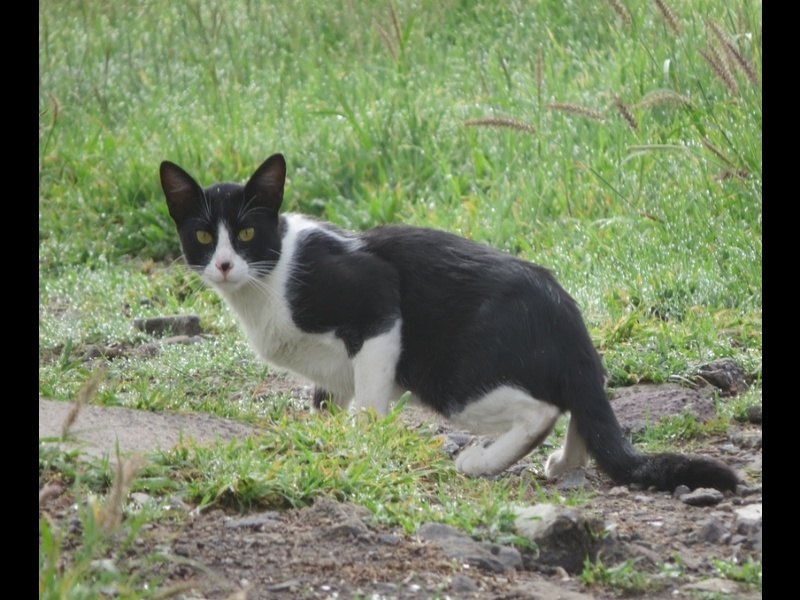cat: (156, 151, 740, 501)
